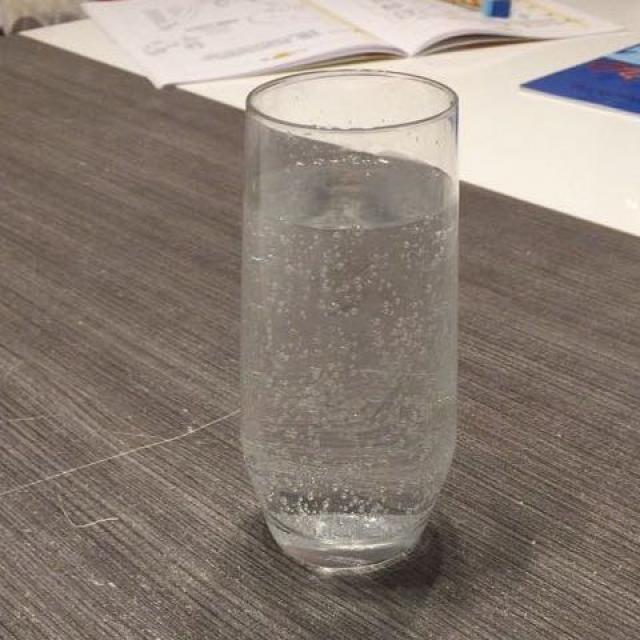water: (243, 90, 457, 551)
